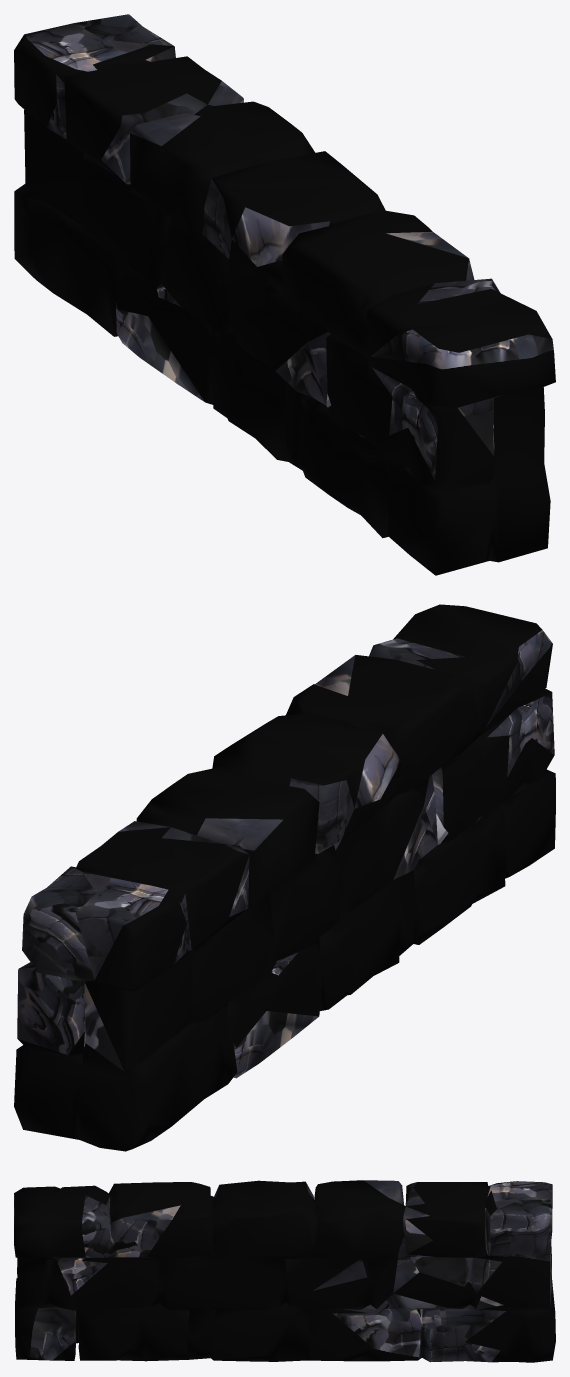
File: RIP0 (3).obj
3 renders of one model, top to bottom at view 1: azimuth 30°, elevation 25°; view 2: azimuth 150°, elevation 25°; view 3: azimuth 270°, elevation 25°, orthographic. The views are drawn at different scales.
Visible parts, largest first — view 1: RIP0; view 2: RIP0; view 3: RIP0.
Part boxes in pixels (<box>): RIP0: <box>14,14,555,575</box>; RIP0: <box>14,604,555,1151</box>; RIP0: <box>14,1180,555,1362</box>.
Size of the model in its own units: 0.1699 by 0.299 by 1.
